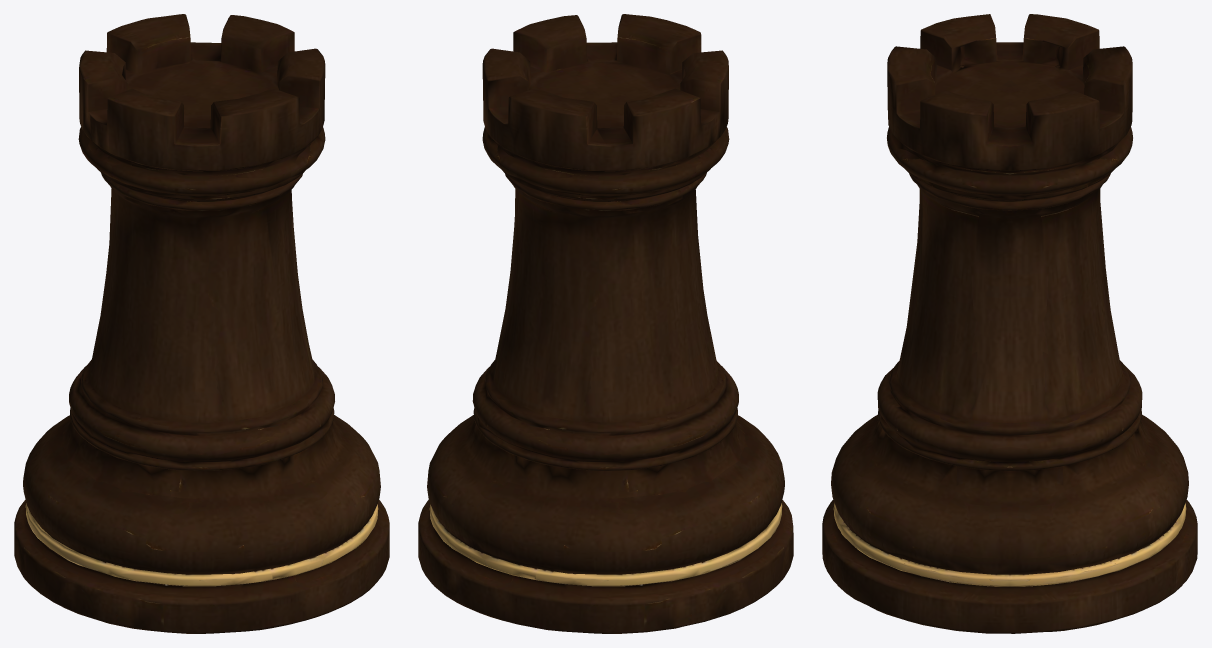
Rendered from rook_dark.glb.
3 renders of one model, left to right at view 1: azimuth 30°, elevation 25°; view 2: azimuth 150°, elevation 25°; view 3: azimuth 270°, elevation 25°, orthographic.
Parts seen in each view (by area): view 1: geometry_0; view 2: geometry_0; view 3: geometry_0.
Part boxes in pixels (x1,y1,x2,y2): geometry_0: (14,14,389,633); geometry_0: (418,14,793,633); geometry_0: (822,14,1197,633).
Bounding box in the file's own units: 0.5658 × 0.8199 × 0.5662.
1 material, 1 textured.
